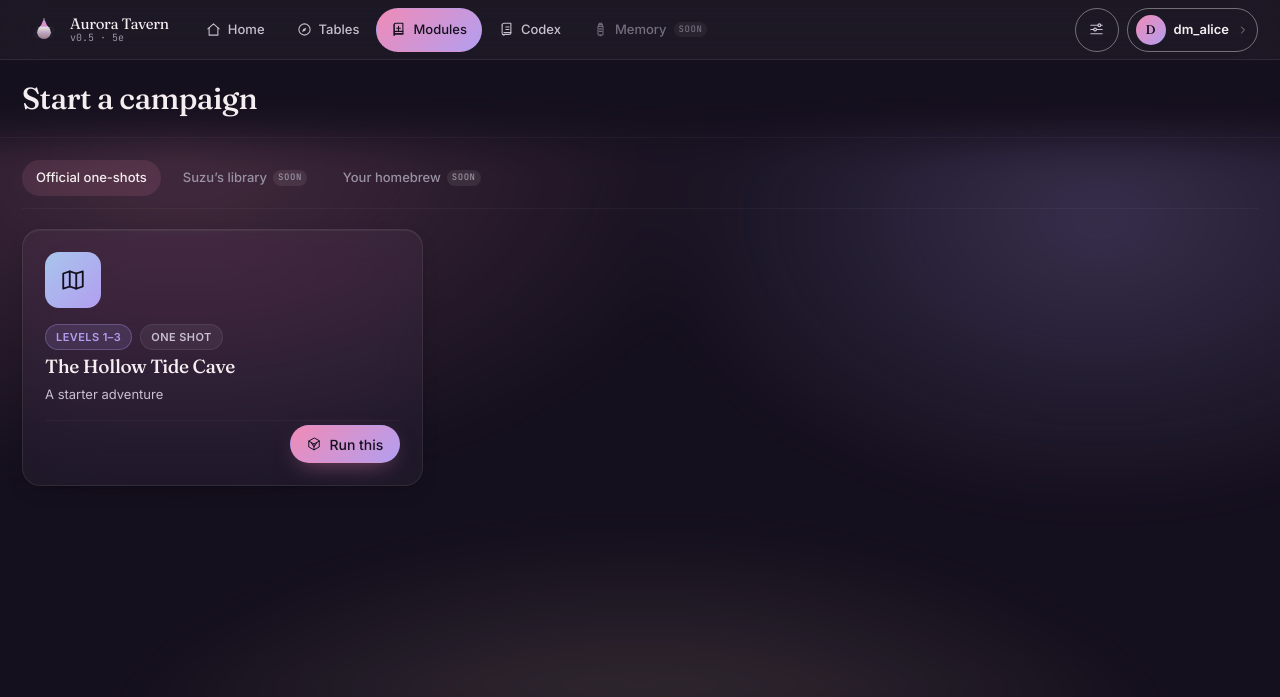
Test: S5.5-AC5 — StarterForm shows ai_assist_level radio for human/solo modes › ai assist level fieldset visible when Human DM is selected
Check: the heading "The Hollow Tide Cave" is shown, box [45,354,235,378]
Note: Click "Run this" to open StarterForm.
Click the button with aria-label "Run this — The Hollow Tide Cave" at (345, 444), box [290,425,400,463]
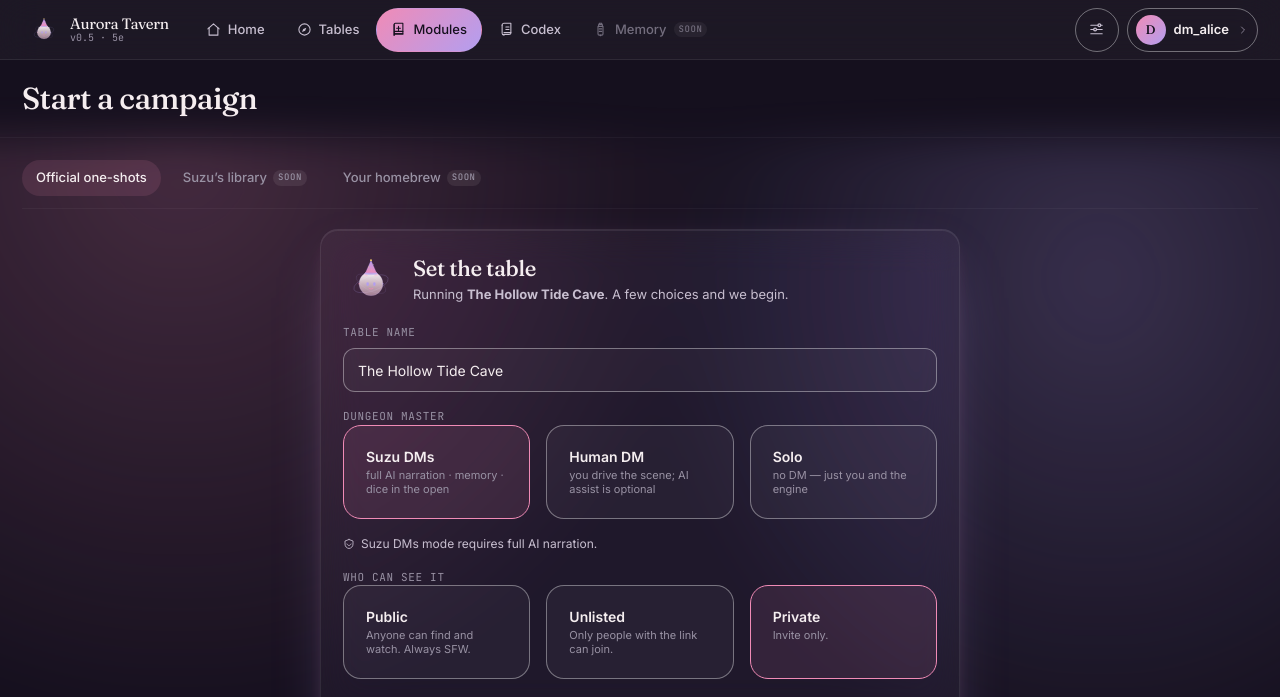
Check: the heading "Set the table" is shown, box [413,254,536,282]
Note: Switch to 'Human DM'.
Click the radio button labelled "Human DM you drive the scene; AI assist is optional" at (640, 472), box [546,425,734,519]
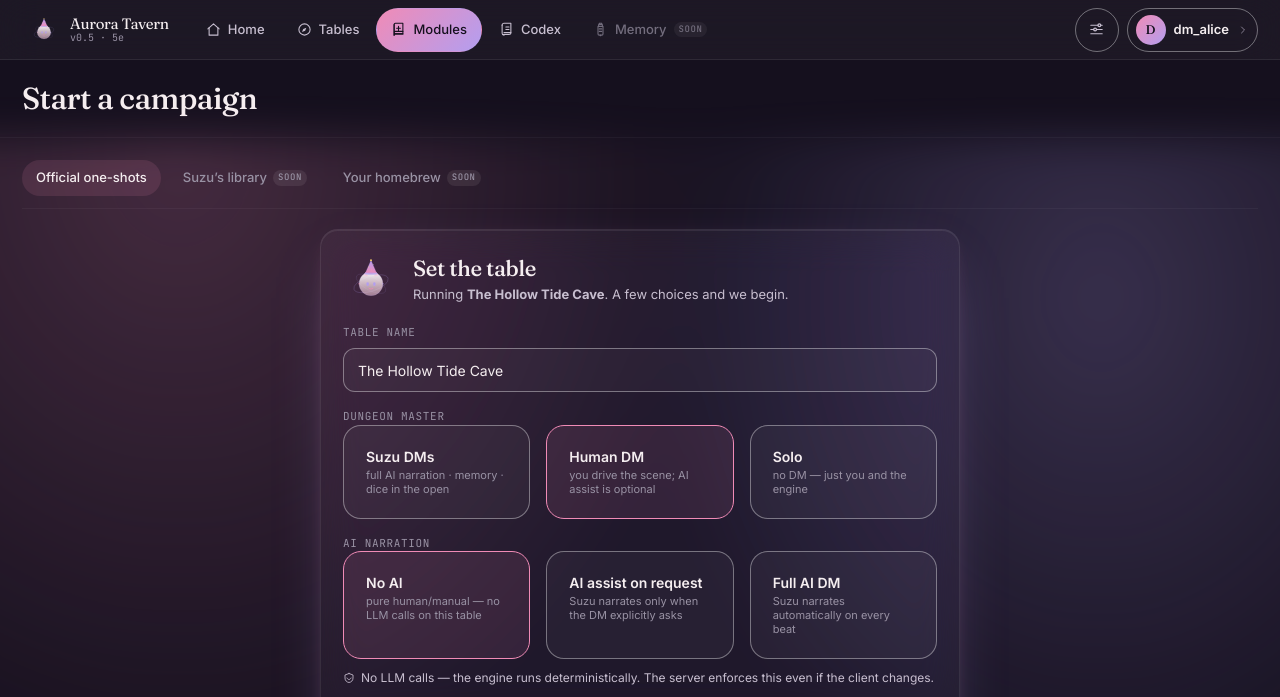
Check: the element named "AI narration level" is shown, box [343,551,937,659]
Check: the radio button labelled "No AI pure human/manual — no LLM calls on this table" is shown, box [343,551,530,659]
Check: the radio button labelled "AI assist on request" is shown, box [546,551,734,659]
